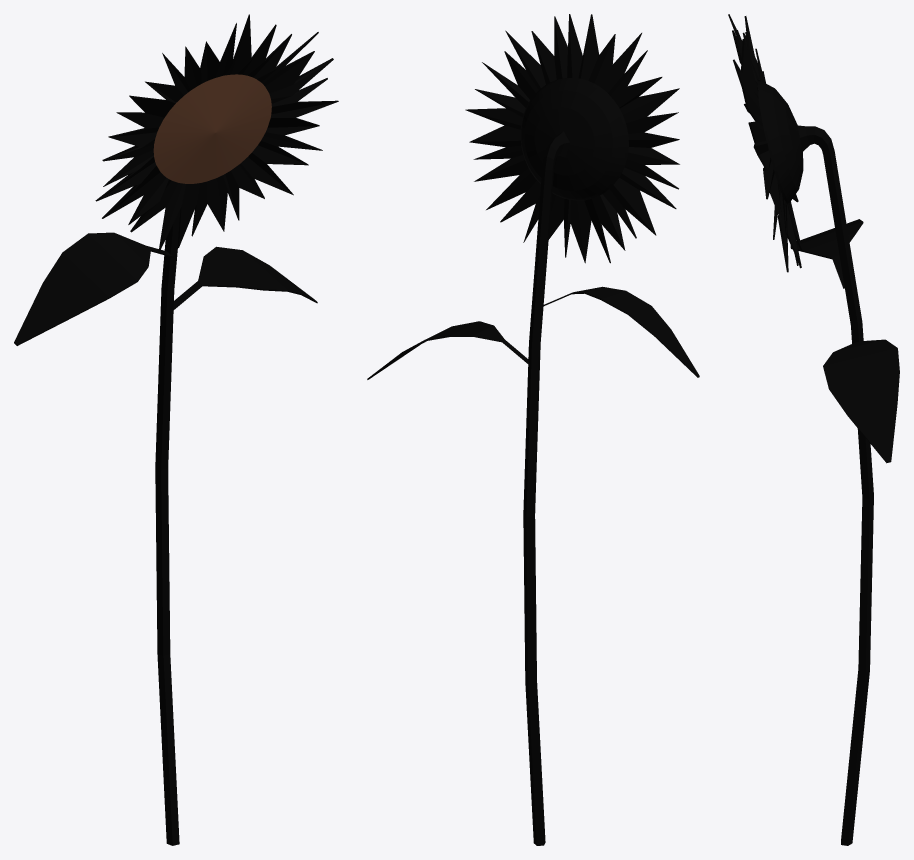
File: Sunflower_1_Smaller.fbx
3 renders of one model, left to right at view 1: azimuth 30°, elevation 25°; view 2: azimuth 150°, elevation 25°; view 3: azimuth 270°, elevation 25°, orthographic. The views are drawn at different scales.
Parts seen in each view (by area): view 1: Sunflower_1_Smaller; view 2: Sunflower_1_Smaller; view 3: Sunflower_1_Smaller.
Boxes of the visible parts, left/top/right/bottom form: Sunflower_1_Smaller: left=14, top=14, right=338, bottom=845; Sunflower_1_Smaller: left=367, top=14, right=699, bottom=845; Sunflower_1_Smaller: left=728, top=14, right=899, bottom=845.
Size of the model in its own units: 0.1905 by 0.4735 by 0.0905.
